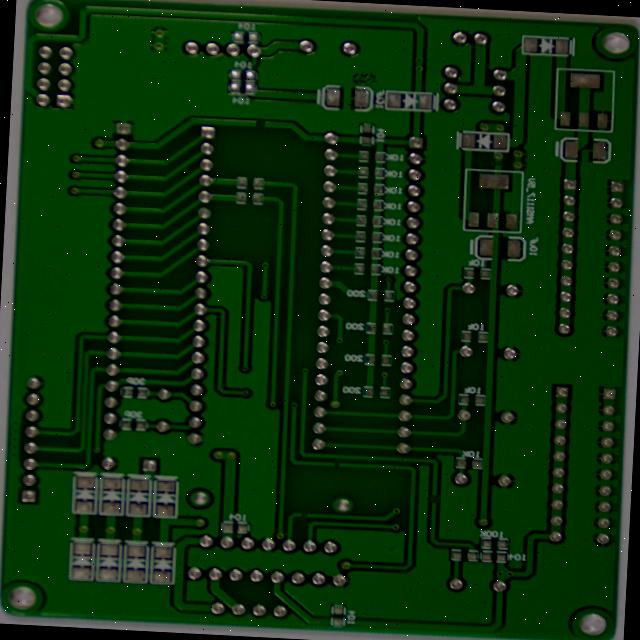open_circuit: (289, 131, 314, 144), (499, 543, 514, 558), (571, 177, 590, 188), (346, 561, 363, 573), (384, 506, 401, 518)
